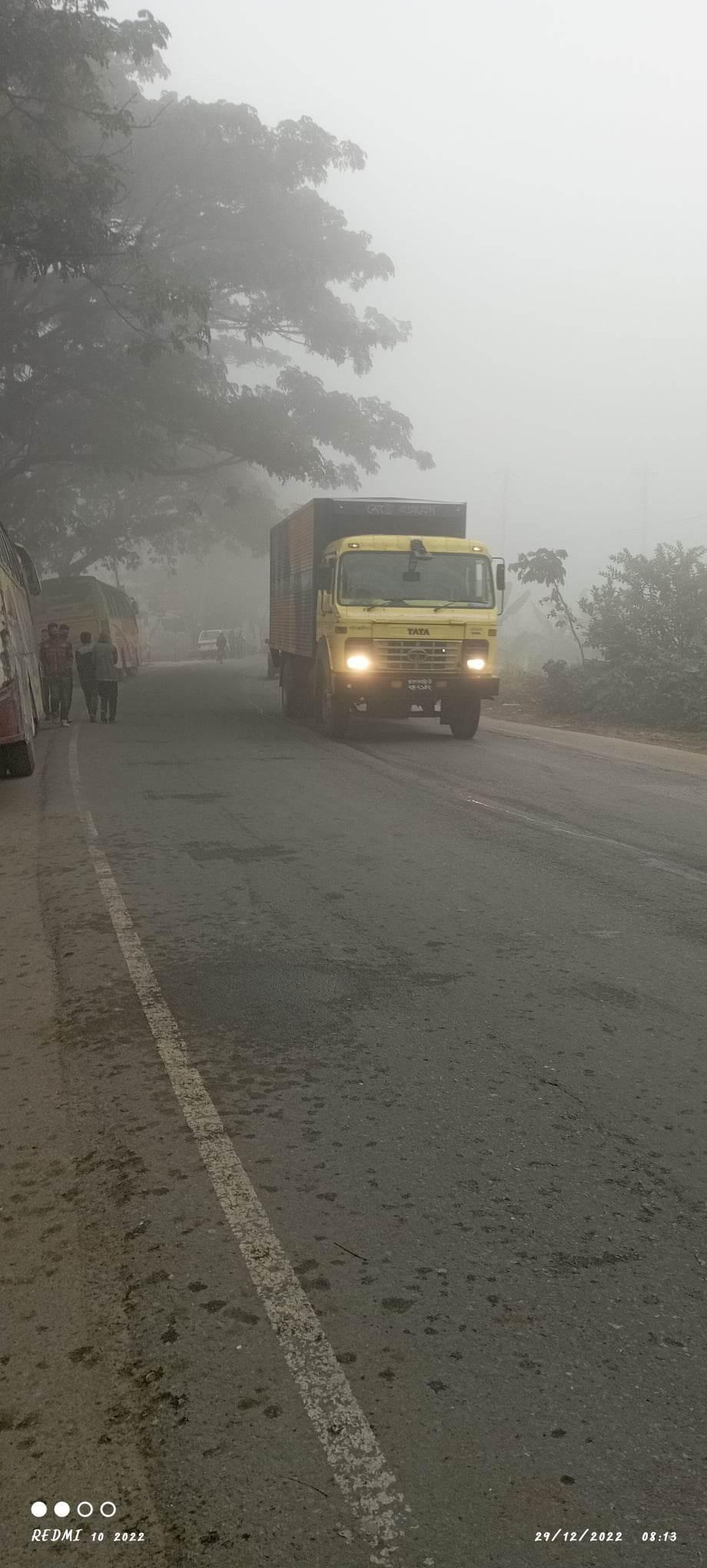Bus: (42, 555, 157, 693)
Truck: (242, 491, 544, 762)
